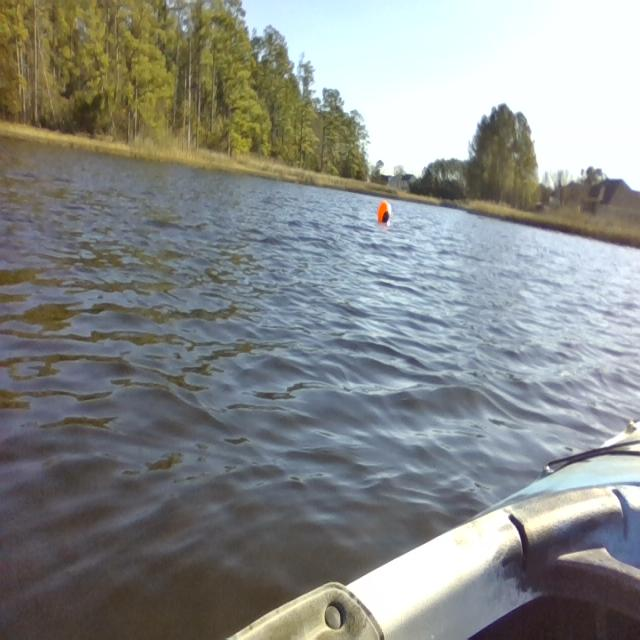Buoy: (374, 193, 397, 234)
